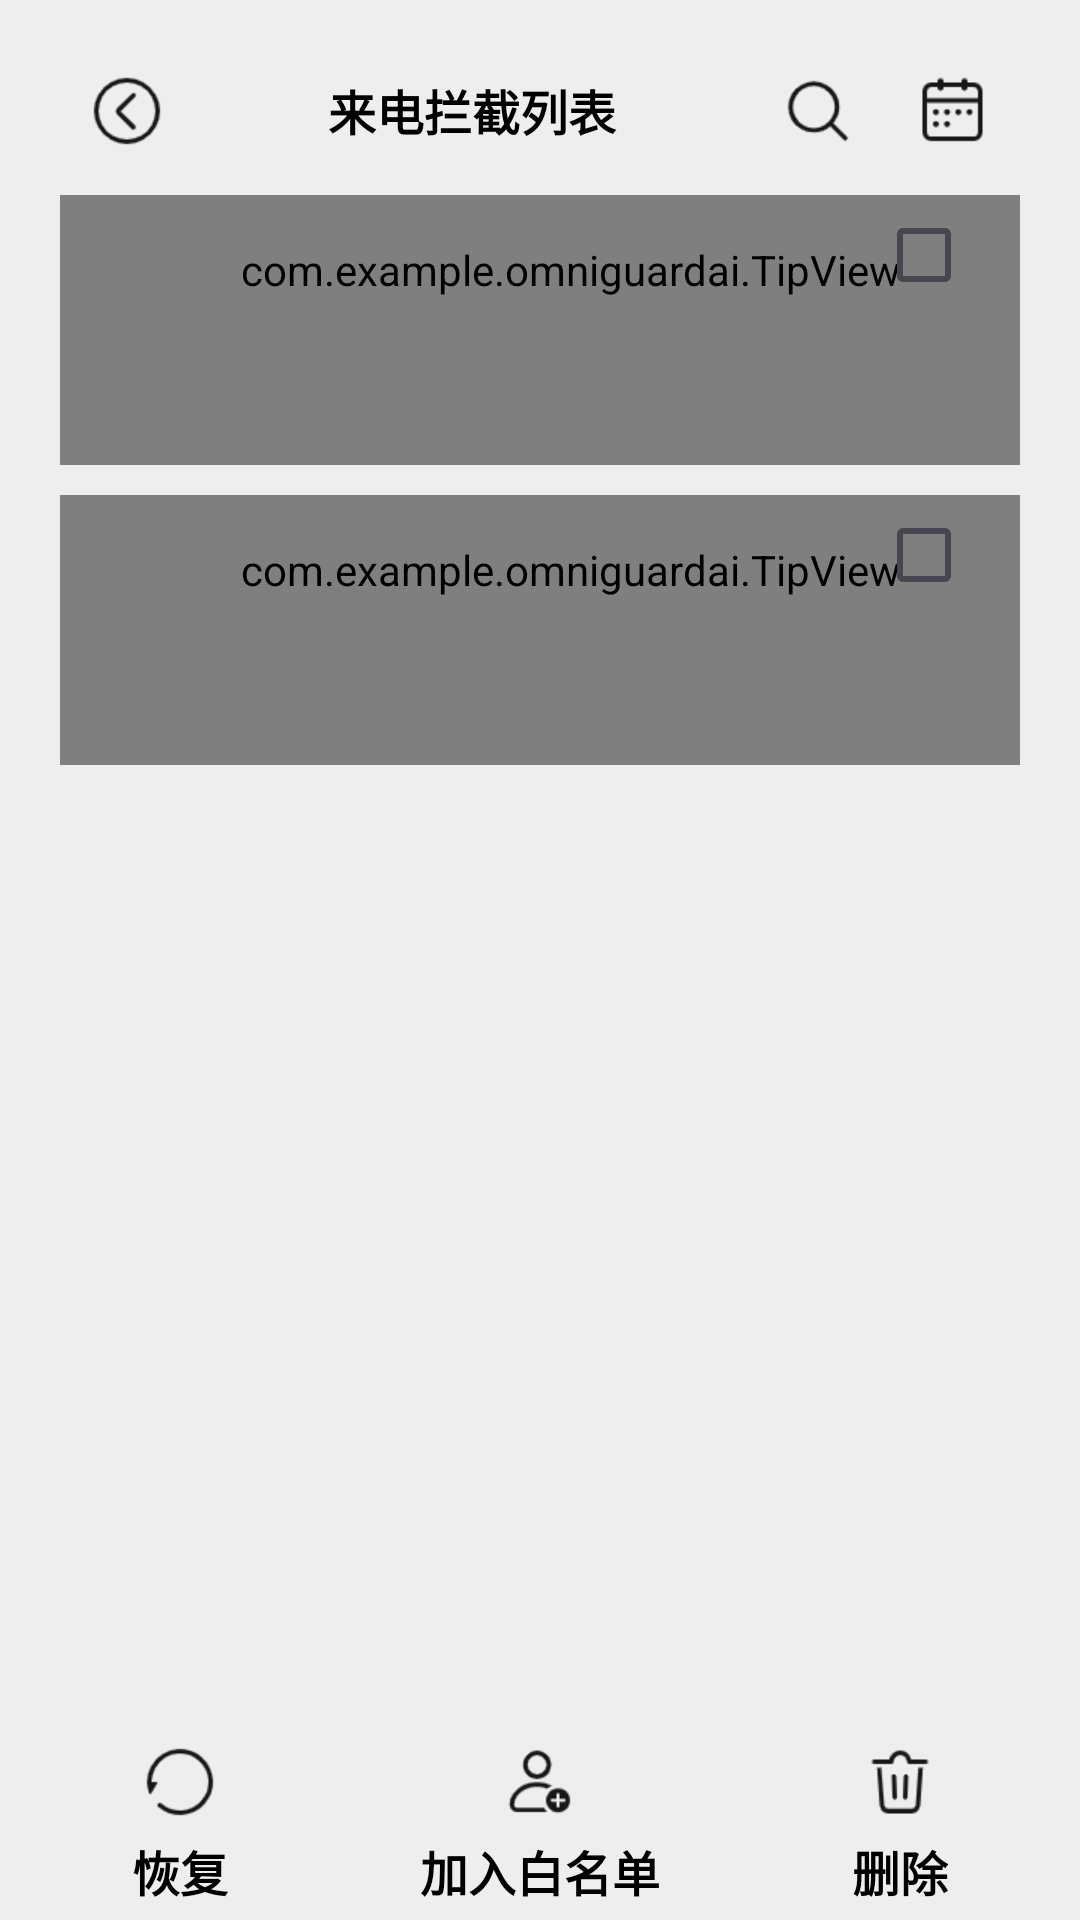

Where to tap for icons on this 1080px×1920px app screen, as (x=x, y=y):
arrow counterclockwise: (x=180, y=1782)
calendar: (x=952, y=110)
chevron left circle: (x=127, y=111)
magnifyingglass: (x=817, y=111)
person badge plus: (x=540, y=1781)
trash: (x=900, y=1782)
